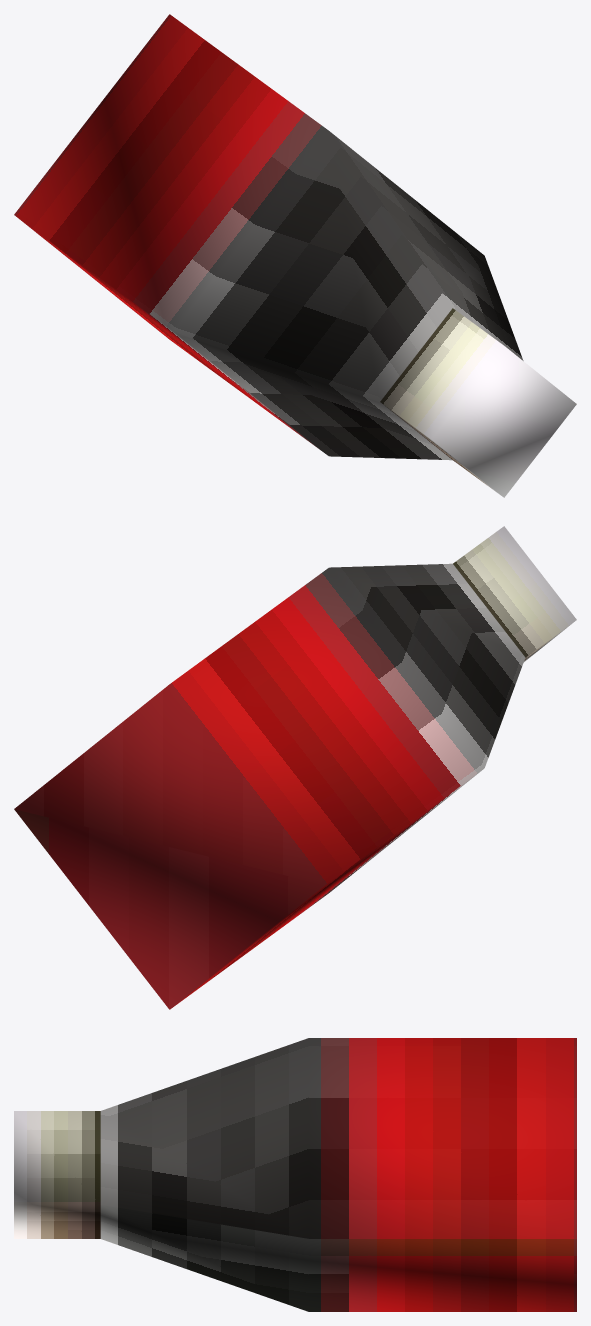
File: Potion02.glb
3 views of the same model, one above another, from view 1: azimuth 30°, elevation 25°; view 2: azimuth 150°, elevation 25°; view 3: azimuth 270°, elevation 25° (orthographic). The views are drawn at different scales.
Parts seen in each view (by area): view 1: model_Potion02; view 2: model_Potion02; view 3: model_Potion02.
Part boxes in pixels (<box>): model_Potion02: <box>14,14,576,497</box>; model_Potion02: <box>14,526,576,1009</box>; model_Potion02: <box>14,1038,576,1311</box>.
Size of the model in its own units: 0.1466 by 0.1466 by 0.2731.
Materials: 2 (2 with a texture image).
